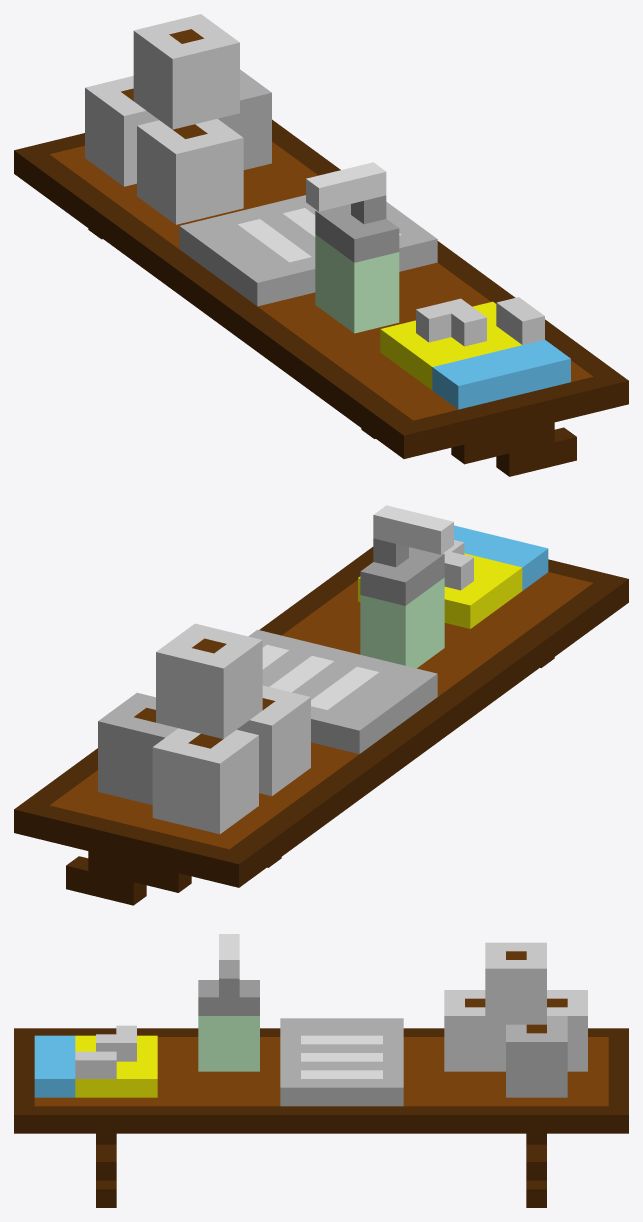
File: BathroomShelf.obj
3 renders of one model, top to bottom at view 1: azimuth 30°, elevation 25°; view 2: azimuth 150°, elevation 25°; view 3: azimuth 270°, elevation 25°, orthographic. The views are drawn at different scales.
Size of the model in its own units: 1 by 1.1 by 3.
1 material, 1 textured.
